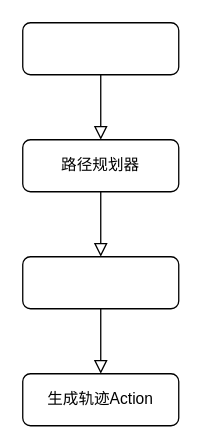
Image size: 202x448. Some labels were removed from this diagram. The box of each missing label's shape, as (x1, y1, x2, y2) in pixels:
规划请求: (21, 21, 179, 75)
运动学求解器: (21, 255, 179, 309)
